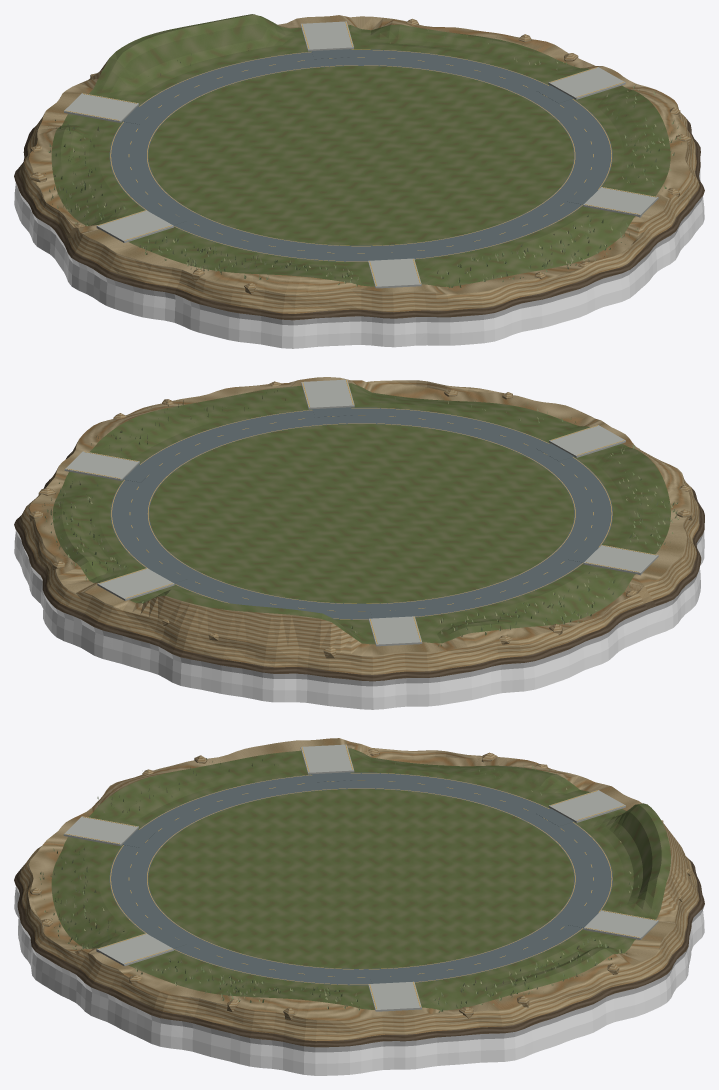
File: parcel-a.glb
The picture shows the model from 3 angles, top to bottom: view 1: azimuth 30°, elevation 25°; view 2: azimuth 150°, elevation 25°; view 3: azimuth 270°, elevation 25°; orthographic projection.
Visible parts, largest first — view 1: parcel_closed_manifold_core, ring_road_surface, retained_palette_coastal_salt_grass, pad_closed_abutment_E150, pad_closed_abutment_E330, pad_closed_abutment_E90, pad_closed_abutment_E270, pad_closed_abutment_E210, pad_closed_abutment_E30, ring_road_ochre_edge_27.64, ring_road_ochre_edge_32.36; view 2: parcel_closed_manifold_core, ring_road_surface, retained_palette_coastal_salt_grass, pad_closed_abutment_E30, pad_closed_abutment_E210, pad_closed_abutment_E330, pad_closed_abutment_E150, pad_closed_abutment_E90, pad_closed_abutment_E270, ring_road_ochre_edge_27.64, ring_road_ochre_edge_32.36; view 3: parcel_closed_manifold_core, ring_road_surface, retained_palette_coastal_salt_grass, pad_closed_abutment_E270, pad_closed_abutment_E90, pad_closed_abutment_E210, pad_closed_abutment_E30, pad_closed_abutment_E330, pad_closed_abutment_E150, ring_road_ochre_edge_32.36, ring_road_ochre_edge_27.64.
Part boxes in pixels (<box>): parcel_closed_manifold_core: <box>14,14,704,348</box>; ring_road_surface: <box>109,49,612,261</box>; retained_palette_coastal_salt_grass: <box>45,29,681,288</box>; pad_closed_abutment_E150: <box>96,210,173,242</box>; pad_closed_abutment_E330: <box>548,67,625,99</box>; pad_closed_abutment_E90: <box>64,93,138,122</box>; pad_closed_abutment_E270: <box>583,187,658,217</box>; pad_closed_abutment_E210: <box>368,258,421,288</box>; pad_closed_abutment_E30: <box>300,21,353,51</box>; ring_road_ochre_edge_27.64: <box>147,65,575,246</box>; ring_road_ochre_edge_32.36: <box>110,49,611,261</box>; parcel_closed_manifold_core: <box>14,377,704,709</box>; ring_road_surface: <box>110,407,612,619</box>; retained_palette_coastal_salt_grass: <box>42,390,679,646</box>; pad_closed_abutment_E30: <box>97,568,174,600</box>; pad_closed_abutment_E210: <box>549,425,625,457</box>; pad_closed_abutment_E330: <box>64,451,139,480</box>; pad_closed_abutment_E150: <box>583,545,658,575</box>; pad_closed_abutment_E90: <box>368,616,422,646</box>; pad_closed_abutment_E270: <box>301,379,354,409</box>; ring_road_ochre_edge_27.64: <box>147,423,575,603</box>; ring_road_ochre_edge_32.36: <box>111,408,612,619</box>; parcel_closed_manifold_core: <box>14,738,704,1075</box>; ring_road_surface: <box>109,772,612,985</box>; retained_palette_coastal_salt_grass: <box>39,756,658,1012</box>; pad_closed_abutment_E270: <box>96,933,173,966</box>; pad_closed_abutment_E90: <box>548,790,625,822</box>; pad_closed_abutment_E210: <box>63,816,138,846</box>; pad_closed_abutment_E30: <box>583,910,658,939</box>; pad_closed_abutment_E330: <box>368,981,421,1011</box>; pad_closed_abutment_E150: <box>300,744,354,774</box>; ring_road_ochre_edge_32.36: <box>110,773,612,984</box>; ring_road_ochre_edge_27.64: <box>147,788,575,969</box>.
Size of the model in its own units: 90.11 by 10.95 by 89.24.
Materials: 10 (3 with a texture image).
